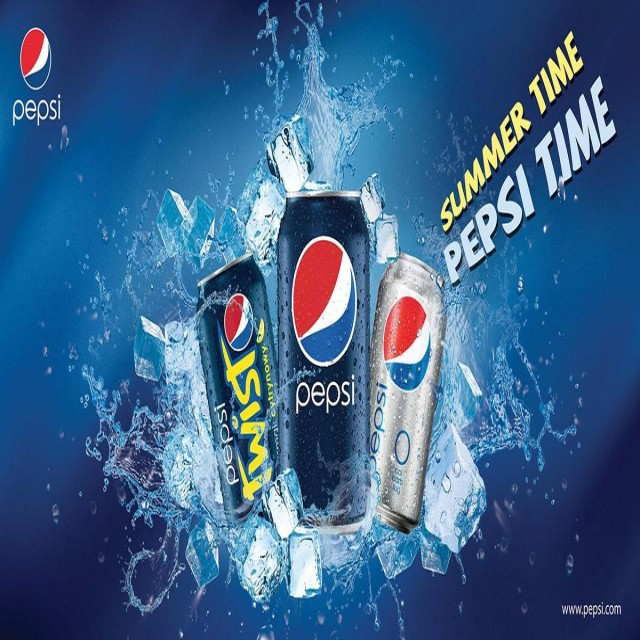pepsi: (292, 234, 358, 374), (383, 290, 433, 388), (21, 22, 57, 97), (224, 291, 256, 353)
